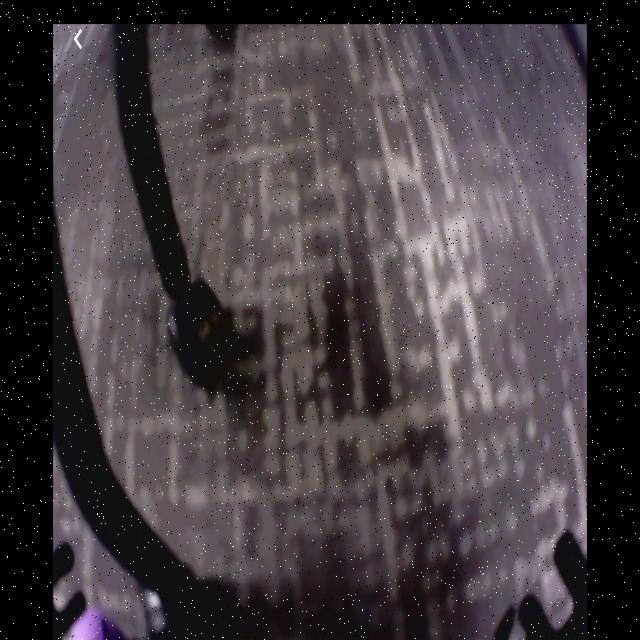ball: (59, 607, 111, 640)
